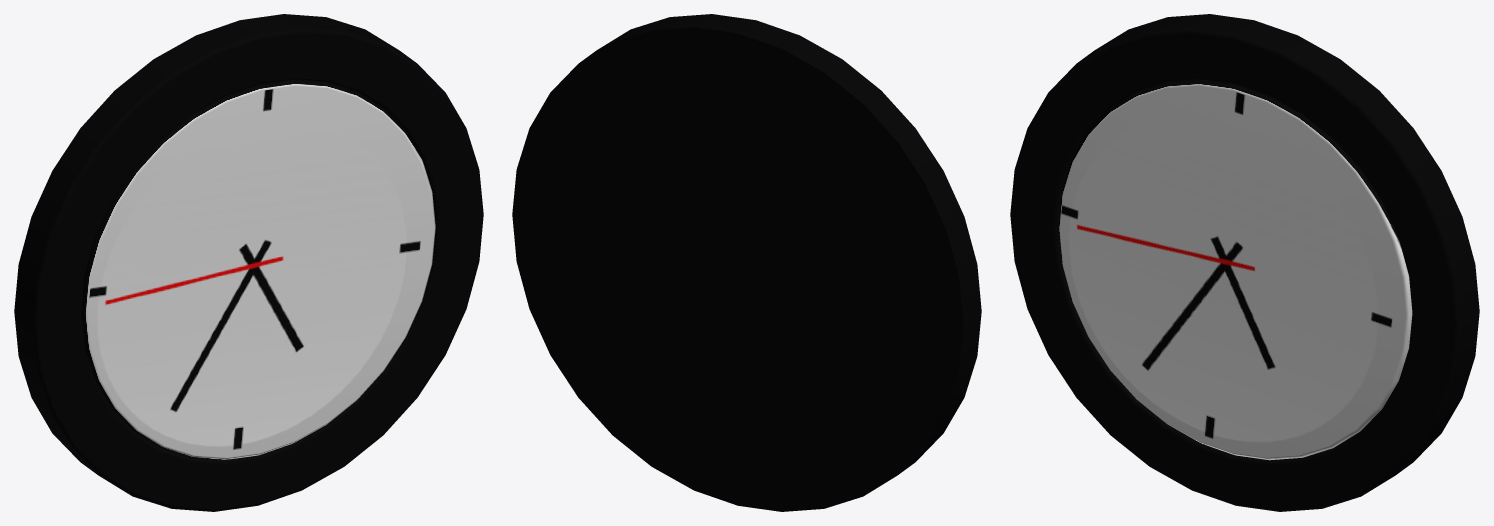
File: clock-wall.fbx
The picture shows the model from 3 angles, left to right: view 1: azimuth 30°, elevation 25°; view 2: azimuth 150°, elevation 25°; view 3: azimuth 330°, elevation 25°; orthographic projection.
Parts seen in each view (by area): view 1: Glass_LP, Clock_LP; view 2: Clock_LP; view 3: Glass_LP, Clock_LP.
Boxes of the visible parts, bbox=[...] form: Glass_LP: bbox=[81, 80, 435, 460]; Clock_LP: bbox=[14, 14, 483, 511]; Clock_LP: bbox=[512, 14, 981, 511]; Glass_LP: bbox=[1058, 80, 1412, 460]; Clock_LP: bbox=[1010, 14, 1479, 511].
Bounding box in the file's own units: 9.24 × 9.24 × 0.7539.
